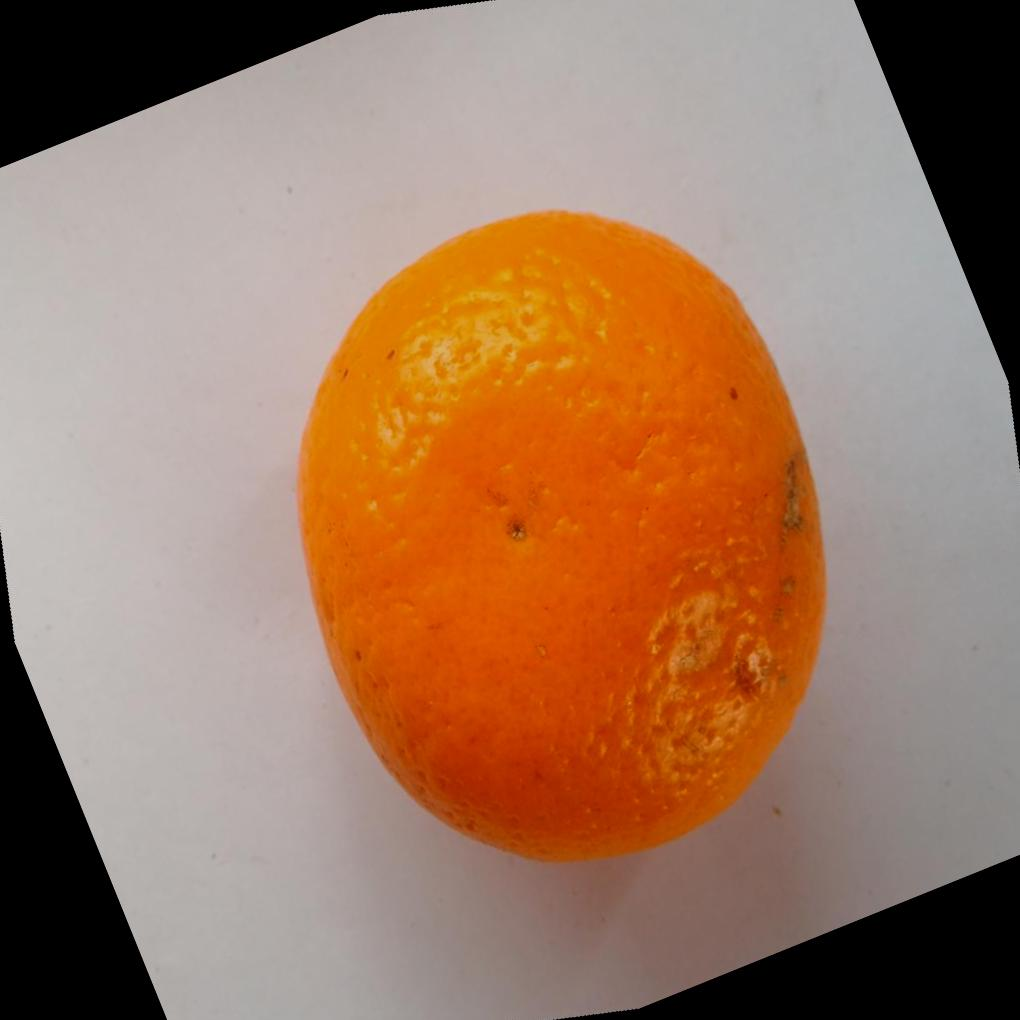FreshGuava: (292, 203, 827, 863)
